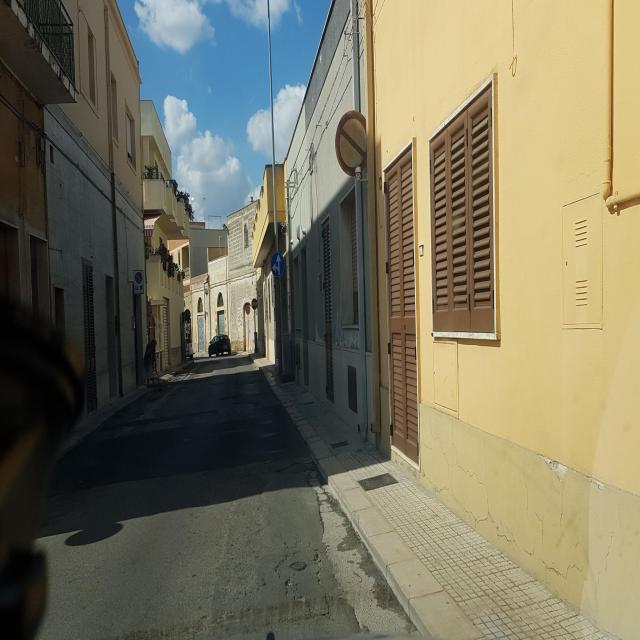forb_stopping: (335, 109, 367, 172)
